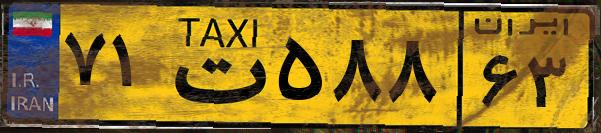1: (110, 28, 158, 98)
3: (525, 38, 570, 115)
5: (270, 28, 330, 110)
6: (475, 38, 525, 113)
7: (57, 26, 110, 100)
8: (385, 28, 445, 110), (330, 28, 385, 110)
ت: (158, 12, 270, 120)
